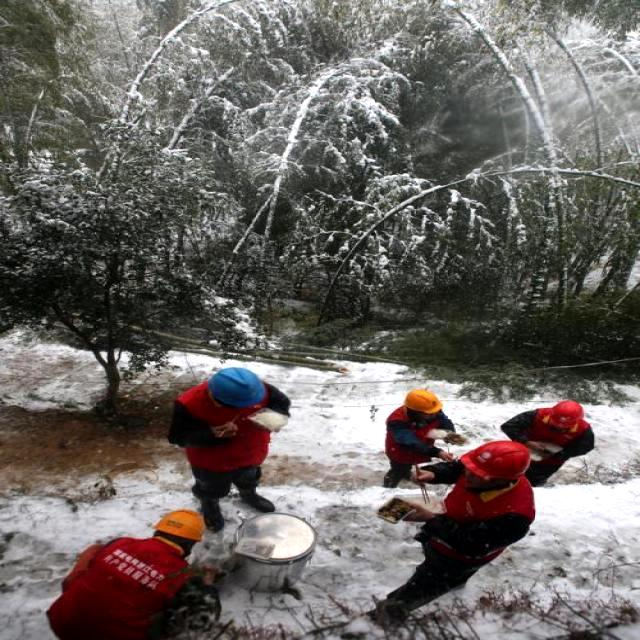hard_hat: (458, 440, 530, 480), (207, 368, 265, 407), (155, 509, 204, 543), (404, 389, 442, 414)
person: (376, 440, 535, 623), (46, 510, 202, 639), (168, 367, 289, 532), (500, 401, 594, 486), (384, 389, 454, 487)
